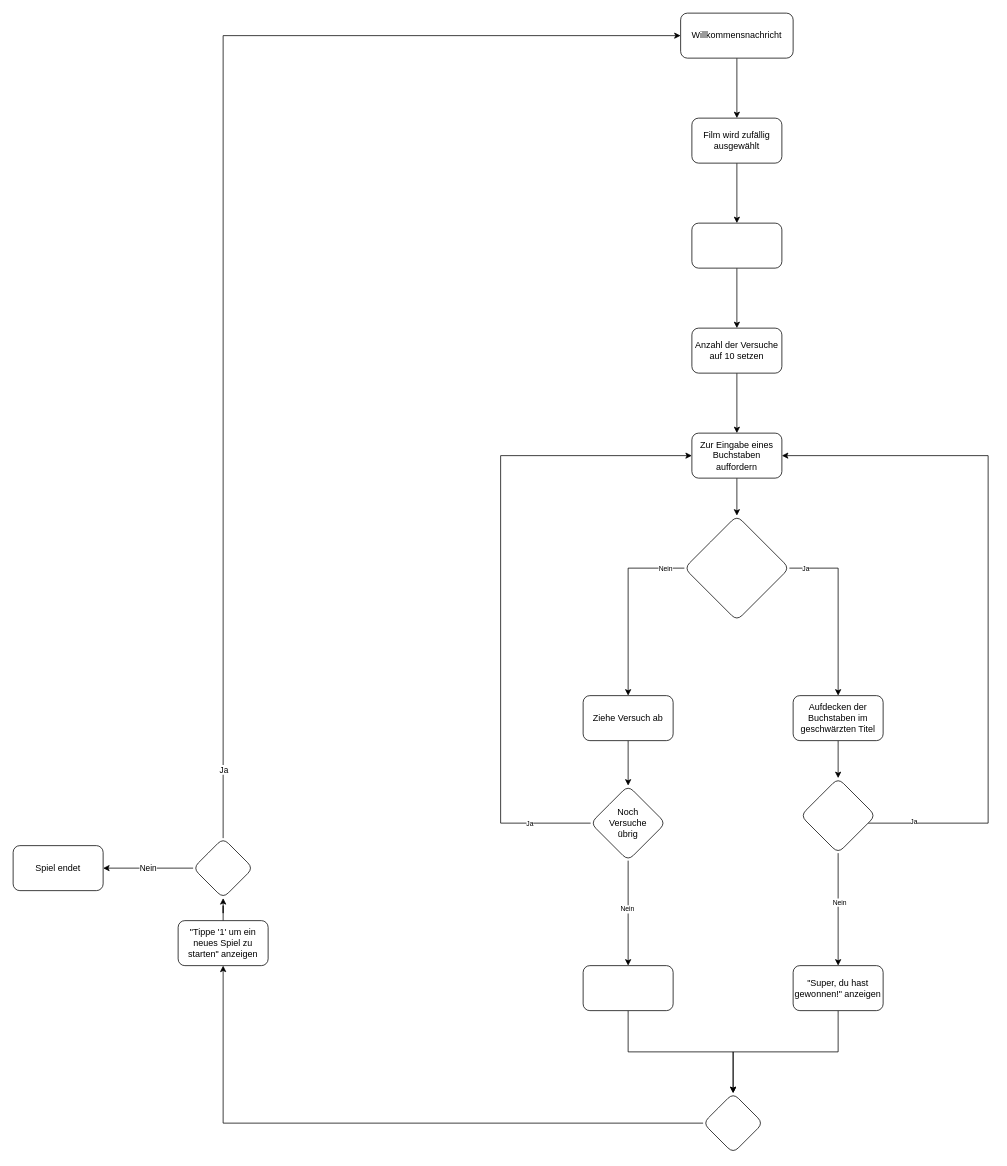
The diagram is 1007 pixels wide and 1166 high, and some of its shapes have lost their labels. The centre of each missing label's shape, as x and y in pixels:
"Du hast leider verloren" anzeigen: (627,988)
'1' getippt: (222,867)
Anzeigen von Unterstrichen in analog zum Titel des Films: (736,245)
Buchstabe ist im Titel und noch nicht genannt: (736,568)
Noch geschwärzte Bereiche übrig: (838,815)
